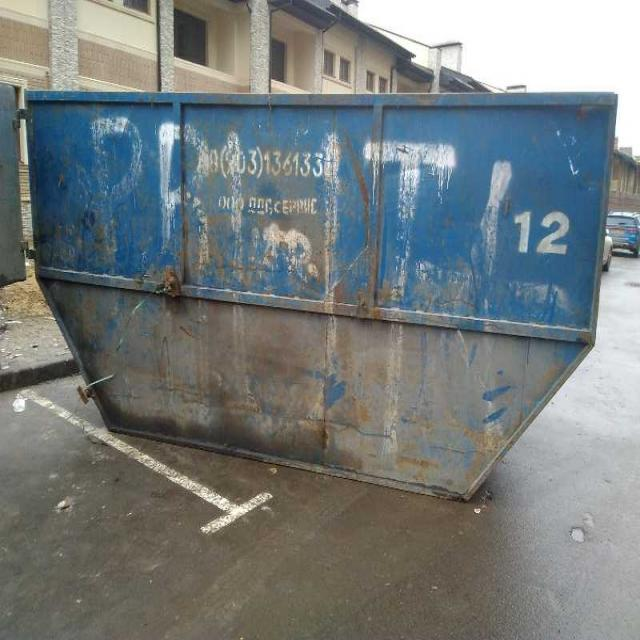Dumpster: (0, 83, 620, 506)
